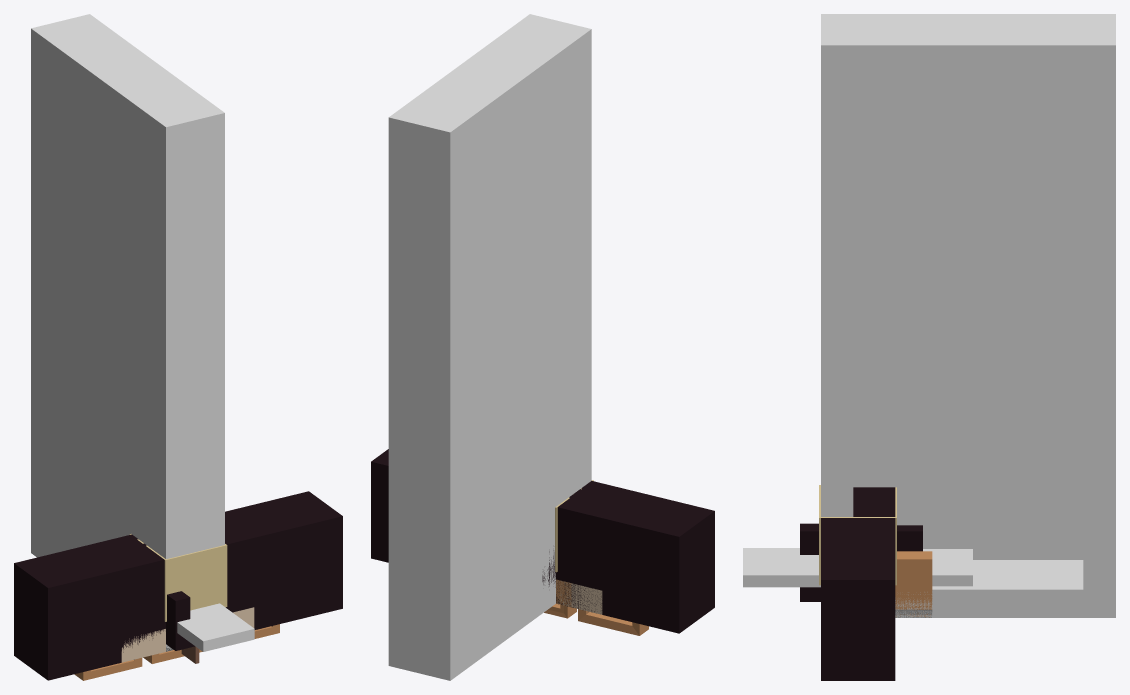
File: room.glb
3 renders of one model, left to right at view 1: azimuth 30°, elevation 25°; view 2: azimuth 150°, elevation 25°; view 3: azimuth 270°, elevation 25°, orthographic. The views are drawn at different scales.
Visible parts, largest first — view 1: Cube.005, Cube.001, Cube.020, Cube.021, Cube.008, Cube.003, Cube.007; view 2: Cube.005, Cube.001, Cube.003, Cube.008; view 3: Cube.005, Cube.001, Cube.021, Cube.010, Cube.007.
Part boxes in pixels (x1,y1,x2,y2): Cube.005: (31, 14, 224, 651); Cube.001: (14, 491, 342, 680); Cube.020: (129, 534, 227, 621); Cube.021: (177, 603, 254, 651); Cube.008: (121, 607, 254, 662); Cube.003: (74, 624, 279, 680); Cube.007: (166, 591, 194, 650); Cube.005: (388, 14, 591, 680); Cube.001: (371, 449, 714, 633); Cube.003: (544, 605, 648, 635); Cube.008: (556, 580, 602, 614); Cube.005: (821, 14, 1115, 617); Cube.001: (821, 487, 895, 680); Cube.021: (743, 548, 972, 587); Cube.010: (895, 551, 932, 617); Cube.007: (800, 523, 922, 601).
Size of the model in its own units: 10 by 17.73 by 10.03.
